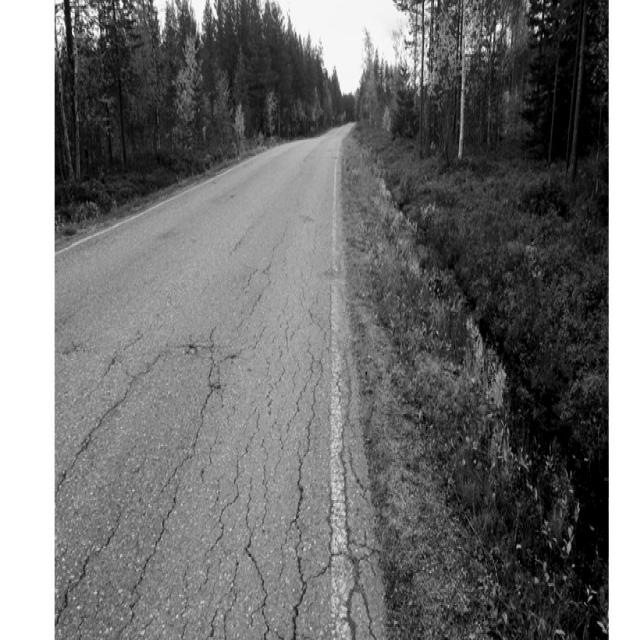cleat: (92, 82, 448, 605)
